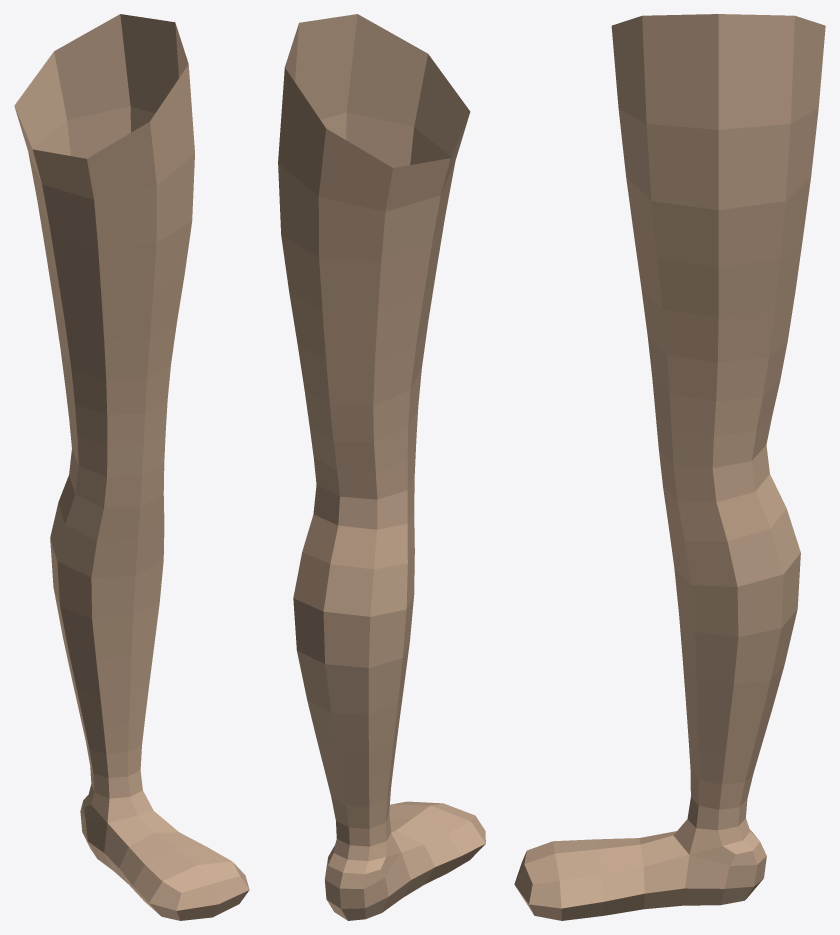
File: RightLeg.fbx
3 views of the same model, side by side, from view 1: azimuth 30°, elevation 25°; view 2: azimuth 150°, elevation 25°; view 3: azimuth 270°, elevation 25° (orthographic). The views are drawn at different scales.
Visible parts, largest first — view 1: Vert.004; view 2: Vert.004; view 3: Vert.004.
Part boxes in pixels (x1=…): Vert.004: x1=14, y1=14, x2=249, y2=920; Vert.004: x1=278, y1=14, x2=485, y2=920; Vert.004: x1=514, y1=14, x2=825, y2=920.
Size of the model in its own units: 60.17 by 319 by 97.48.
